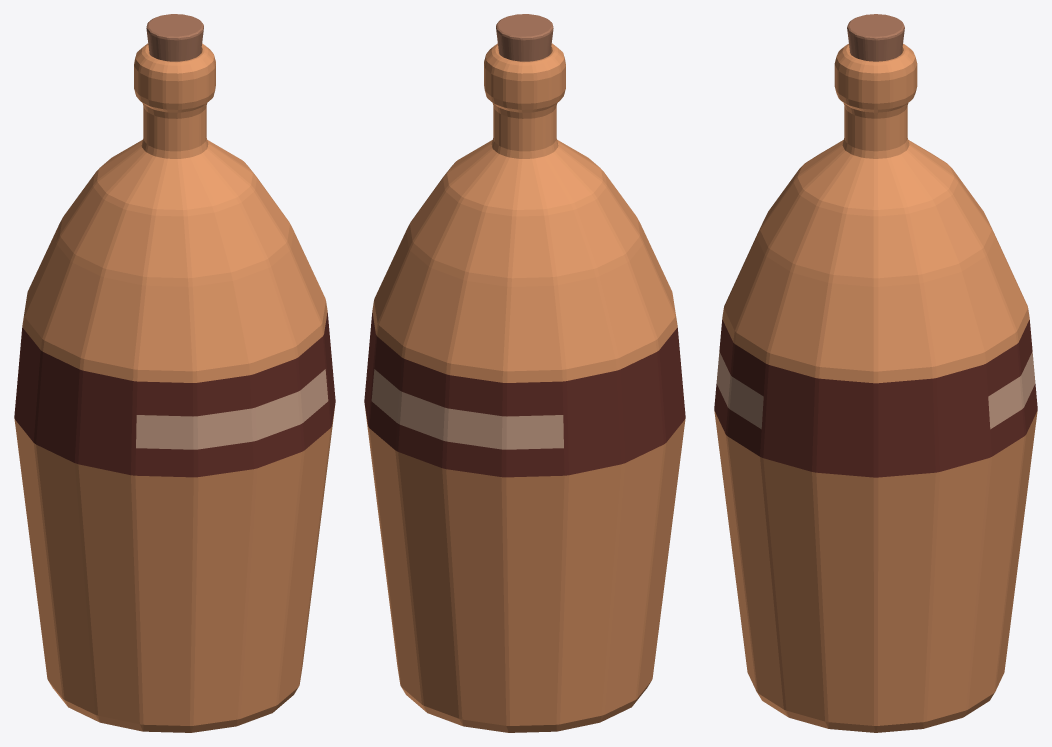
Rendered from alcohol_bottle_2_partyassetst.fbx.
3 renders of one model, left to right at view 1: azimuth 30°, elevation 25°; view 2: azimuth 150°, elevation 25°; view 3: azimuth 270°, elevation 25°, orthographic.
Parts seen in each view (by area): view 1: alcohol_bottle_2_partyassetst, Cube.021, Cube.059, Cube.036; view 2: alcohol_bottle_2_partyassetst, Cube.021, Cube.059, Cube.036; view 3: alcohol_bottle_2_partyassetst, Cube.021, Cube.059, Cube.036.
Part boxes in pixels (bbox=[...]): alcohol_bottle_2_partyassetst: bbox=[14, 43, 335, 732]; Cube.021: bbox=[14, 312, 335, 477]; Cube.059: bbox=[136, 369, 328, 449]; Cube.036: bbox=[146, 14, 203, 61]; alcohol_bottle_2_partyassetst: bbox=[364, 43, 685, 732]; Cube.021: bbox=[364, 312, 685, 477]; Cube.059: bbox=[371, 369, 563, 449]; Cube.036: bbox=[496, 14, 553, 61]; alcohol_bottle_2_partyassetst: bbox=[714, 43, 1037, 732]; Cube.021: bbox=[714, 319, 1037, 477]; Cube.059: bbox=[716, 350, 1035, 429]; Cube.036: bbox=[847, 14, 904, 61].
Size of the model in its own units: 14.56 by 32.57 by 14.56.
